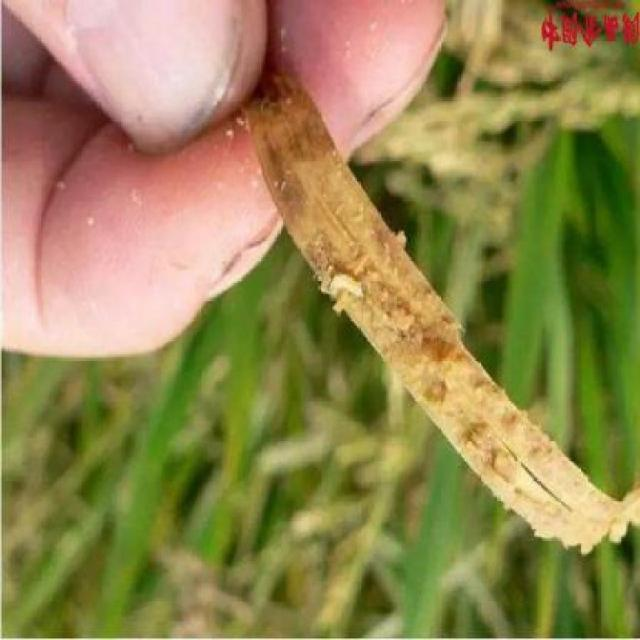whorl-maggot: (325, 265, 367, 313)
